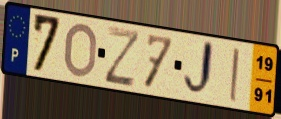7: (30, 12, 62, 75), (143, 32, 174, 91)
I: (228, 46, 240, 105)
J: (181, 38, 216, 100)
O: (62, 21, 99, 80)
Z: (103, 25, 142, 89)
